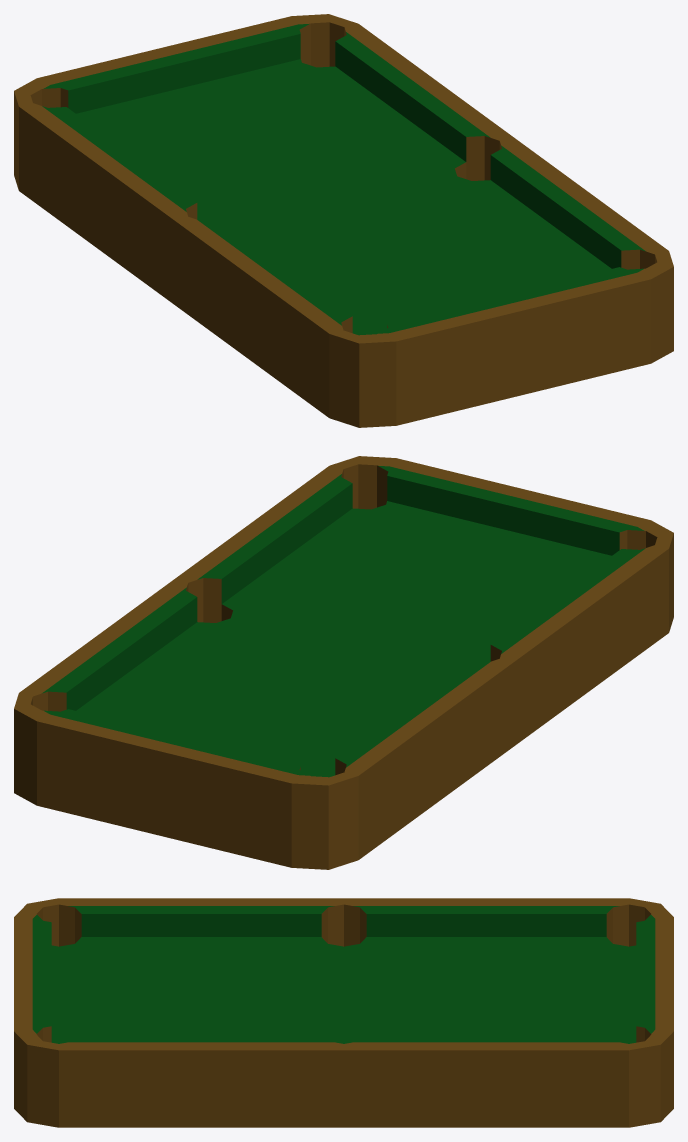
Rendered from custom_table.glb.
The picture shows the model from 3 angles, top to bottom: view 1: azimuth 30°, elevation 25°; view 2: azimuth 150°, elevation 25°; view 3: azimuth 270°, elevation 25°; orthographic projection. The views are drawn at different scales.
Parts seen in each view (by area): view 1: Cube; view 2: Cube; view 3: Cube.
Boxes of the visible parts, x1=… form: Cube: x1=14, y1=14, x2=673, y2=427; Cube: x1=14, y1=456, x2=673, y2=869; Cube: x1=14, y1=898, x2=673, y2=1127.
Size of the model in its own units: 2.4 by 0.57 by 4.4.
